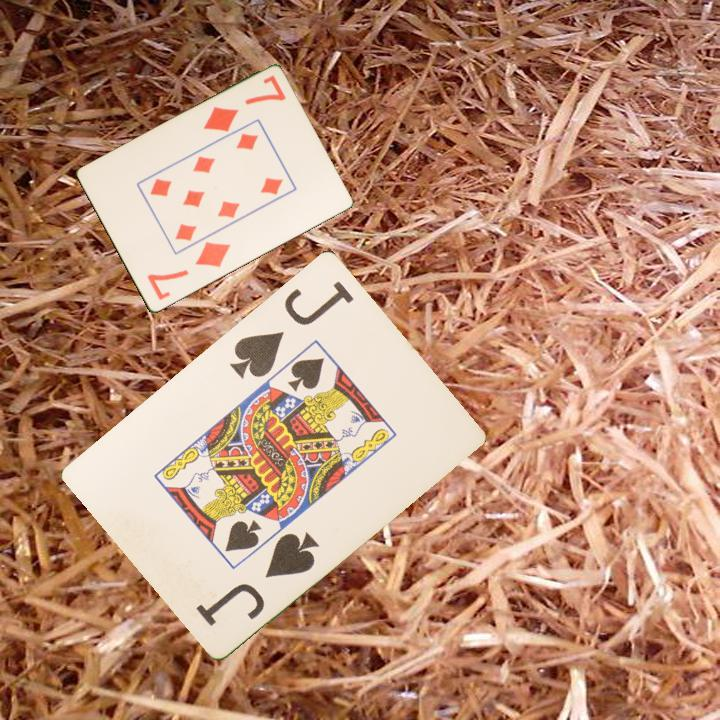7d: (143, 238, 234, 304), (200, 72, 289, 135)
Js: (226, 276, 357, 382), (192, 526, 322, 629)
